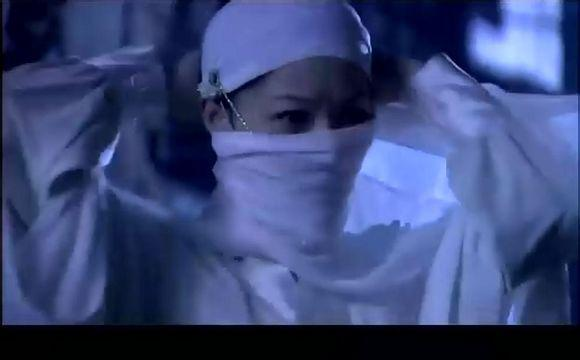OK: (236, 81, 376, 221)
